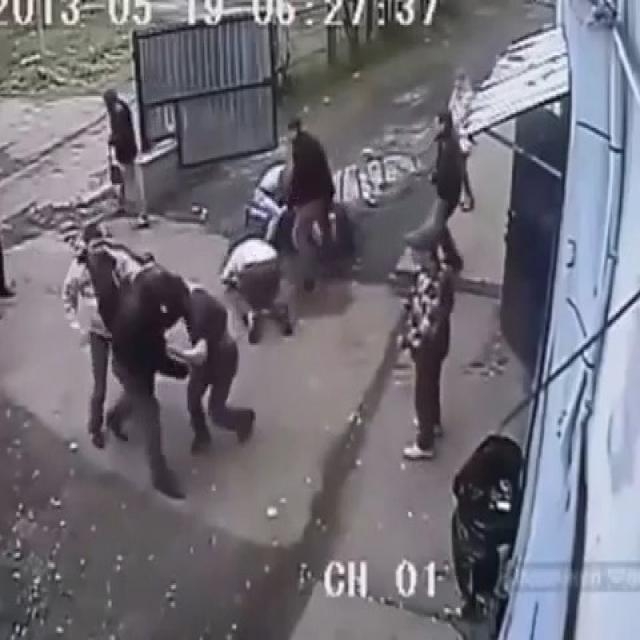fight: (38, 184, 243, 451), (204, 109, 376, 323)
